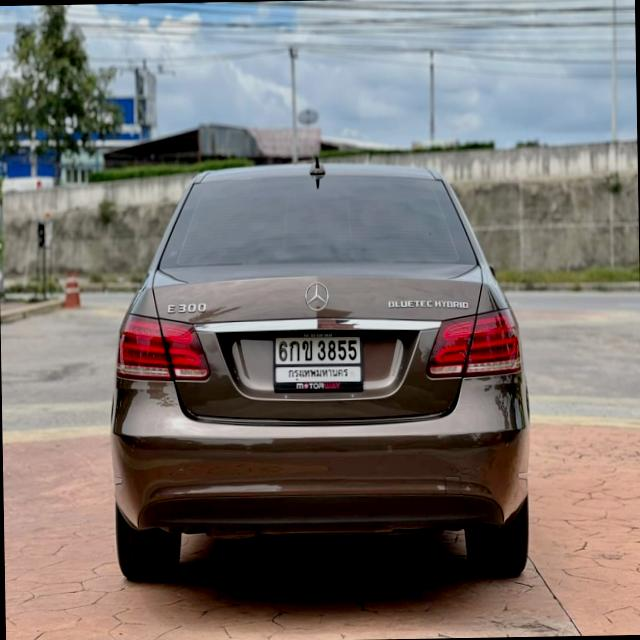license_plate: (272, 329, 362, 392)
